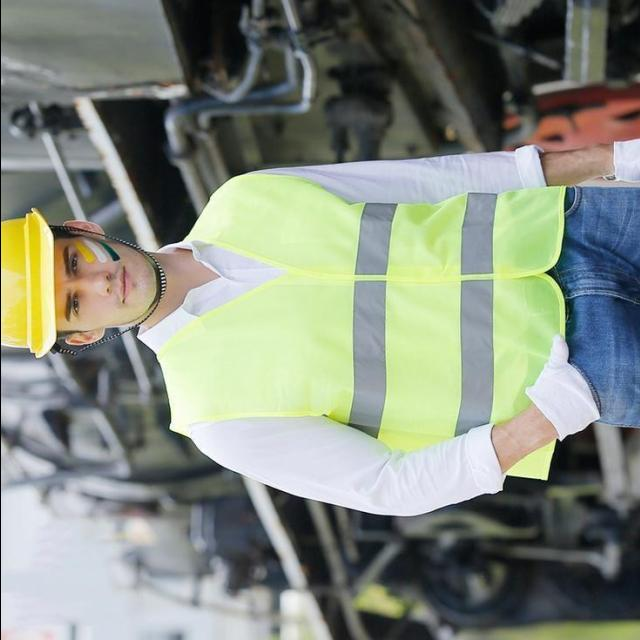helmet: (0, 203, 69, 374)
jacket: (156, 154, 576, 502)
